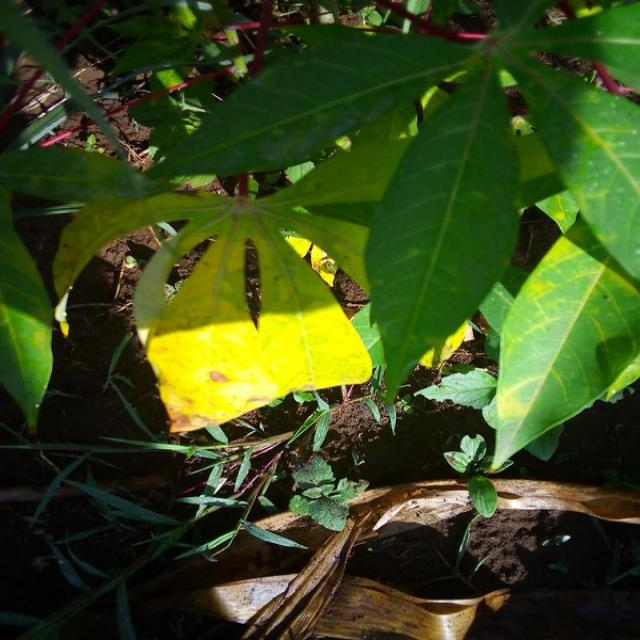cassava leaf: (364, 54, 523, 406), (142, 201, 374, 434), (485, 226, 640, 473)
